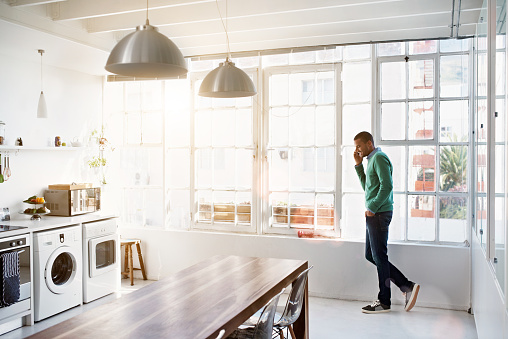em pe: (341, 134, 414, 314)
